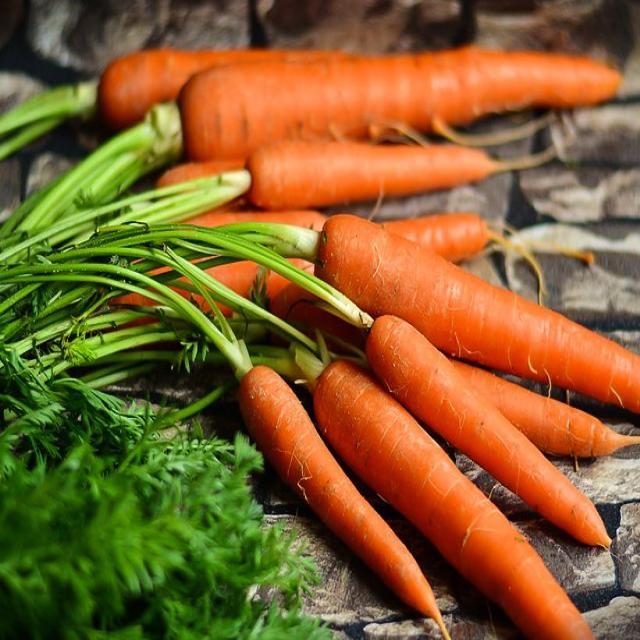Carrot: (249, 144, 504, 197)
